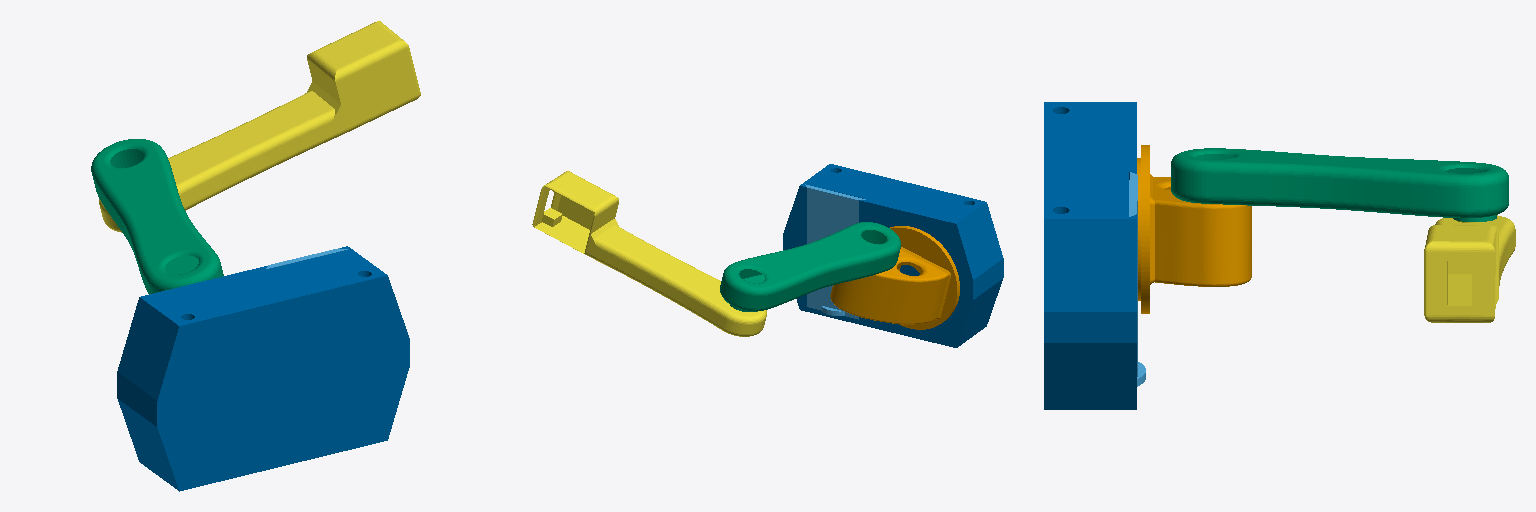
The robot description file, URDF, robot "ASSEMBLY":
<?xml version='1.0' encoding='utf-8'?>
<robot name="ASSEMBLY">
    <link name="ALKUT_armbase">
        <inertial>
            <origin xyz="0.004392225231481817 -0.01422742283088251 -0.0006438110774825035" rpy="0.0 2.223237049489075e-113 0.0" />
            <mass value="0.461910013936637" />
            <inertia ixx="0.0003075728479044783" iyy="0.00040563115301110036" izz="0.0003722463637850504" ixy="5.298811027529271e-05" iyz="-1.0325045876233632e-05" ixz="1.699306977943557e-05" />
        </inertial>
        <visual name="ALKUT_armbase_visual">
            <origin xyz="-0.005250129340027705 0.03364363985685577 0.0009232167950474412" rpy="3.141592653589789 0.24471893676488368 -1.0829313158005796e-15" />
            <geometry>
                <mesh filename="meshes/ALKUT_armbase.stl" scale="0.001 0.001 0.001" />
            </geometry>
        </visual>
        <collision name="ALKUT_armbase_collision">
            <origin xyz="-0.005250129340027705 0.03364363985685577 0.0009232167950474412" rpy="3.141592653589789 0.24471893676488368 -1.0829313158005796e-15" />
            <geometry>
                <mesh filename="meshes/ALKUT_armbase.stl" scale="0.001 0.001 0.001" />
            </geometry>
        </collision>
    </link>
    <link name="Systems_gate">
        <inertial>
            <origin xyz="0.018174334216628757 -0.00020545949361027382 0.017366469304385176" rpy="0.0 7.214816717400227e-81 0.0" />
            <mass value="0.16904533352244253" />
            <inertia ixx="9.104282885270591e-05" iyy="0.0001815201615161608" izz="9.103639830333973e-05" ixy="4.776744028536781e-07" iyz="-4.3369936483269146e-08" ixz="5.529309552445434e-05" />
        </inertial>
        <visual name="Systems_gate_visual">
            <origin xyz="0.05618812644339486 0.005327942733438338 -0.11240186221737887" rpy="-3.1328663395968963 -0.7853600871865067 -0.012341028231671783" />
            <geometry>
                <mesh filename="meshes/Systems_gate.stl" scale="0.001 0.001 0.001" />
            </geometry>
        </visual>
        <collision name="Systems_gate_collision">
            <origin xyz="0.05618812644339486 0.005327942733438338 -0.11240186221737887" rpy="-3.1328663395968963 -0.7853600871865067 -0.012341028231671783" />
            <geometry>
                <mesh filename="meshes/Systems_gate.stl" scale="0.001 0.001 0.001" />
            </geometry>
        </collision>
    </link>
    <link name="ALKUT_ARM2">
        <inertial>
            <origin xyz="0.014562267780249698 -0.015655297652689183 0.0628963853499188" rpy="0.0 -0.0 -3.3036320459721193e-60" />
            <mass value="0.21522109096762693" />
            <inertia ixx="0.0005305458698339864" iyy="0.0005859022489630474" izz="9.683268470041251e-05" ixy="1.6721952600130645e-05" iyz="3.999745533698248e-05" ixz="-0.00013411891612775256" />
        </inertial>
        <visual name="ALKUT_ARM2_visual">
            <origin xyz="-0.0934222420495484 0.039848103825119545 -0.11498199981537081" rpy="3.141592653589789 0.3336352796732803 -0.24471893676488476" />
            <geometry>
                <mesh filename="meshes/ALKUT_ARM2.stl" scale="0.001 0.001 0.001" />
            </geometry>
        </visual>
        <collision name="ALKUT_ARM2_collision">
            <origin xyz="-0.0934222420495484 0.039848103825119545 -0.11498199981537081" rpy="3.141592653589789 0.3336352796732803 -0.24471893676488476" />
            <geometry>
                <mesh filename="meshes/ALKUT_ARM2.stl" scale="0.001 0.001 0.001" />
            </geometry>
        </collision>
    </link>
    <link name="ALKUT_ARM3">
        <inertial>
            <origin xyz="0.08843325739568651 -0.005161036761772451 0.012153182161213695" rpy="0.0 -6.162975822039155e-33 -8.552847072295026e-50" />
            <mass value="0.2664066630042031" />
            <inertia ixx="0.00016764484930982532" iyy="0.001114654799692388" izz="0.0010236958907884892" ixy="6.373720246899413e-05" iyz="2.094313129491143e-05" ixz="-0.00029858947273674904" />
        </inertial>
        <visual name="ALKUT_ARM3_visual">
            <origin xyz="-0.0033130544164205844 -0.019085320238376724 -0.015856569820963225" rpy="-1.5608866275691313 -0.24452222994408765 -0.04091197313850169" />
            <geometry>
                <mesh filename="meshes/ALKUT_ARM3.stl" scale="0.001 0.001 0.001" />
            </geometry>
        </visual>
        <collision name="ALKUT_ARM3_collision">
            <origin xyz="-0.0033130544164205844 -0.019085320238376724 -0.015856569820963225" rpy="-1.5608866275691313 -0.24452222994408765 -0.04091197313850169" />
            <geometry>
                <mesh filename="meshes/ALKUT_ARM3.stl" scale="0.001 0.001 0.001" />
            </geometry>
        </collision>
    </link>
    <link name="Base">
        <inertial>
            <origin xyz="-0.004225328361919232 0.04412948168047964 -0.0006154361378889025" rpy="0.0 0.0 0.0" />
            <mass value="1.3681824208452278" />
            <inertia ixx="0.0021998645901892266" iyy="0.005542889048736739" izz="0.0041118886800065105" ixy="6.150804612622957e-05" iyz="9.016794220462873e-06" ixz="1.474575158063492e-05" />
        </inertial>
        <visual name="Base_visual">
            <origin xyz="0.0 0.0 0.0" rpy="0.0 0.0 0.0" />
            <geometry>
                <mesh filename="meshes/Base.stl" scale="0.001 0.001 0.001" />
            </geometry>
        </visual>
        <collision name="Base_collision">
            <origin xyz="0.0 0.0 0.0" rpy="0.0 0.0 0.0" />
            <geometry>
                <mesh filename="meshes/Base.stl" scale="0.001 0.001 0.001" />
            </geometry>
        </collision>
    </link>
    <joint name="Base_Rigid-4" type="fixed">
        <origin xyz="0.06268081324497196 0.06968460038521379 0.001743042332830349" rpy="-5.828968252863496e-15 0.7853981633974452 3.141592653589789" />
        <parent link="Base" />
        <child link="Systems_gate" />
    </joint>
    <joint name="Base_Revolute-5" type="continuous">
        <origin xyz="-0.03395068675502803 0.07179510038521382 -0.0003569576671696417" rpy="-3.141592653589789 -3.6096140129570125e-32 7.589415207398533e-18" />
        <parent link="Base" />
        <child link="ALKUT_armbase" />
        <axis xyz="-5.473822126268817e-48 -1.0 0.0" />
    </joint>
    <joint name="ALKUT_armbase_Revolute-6" type="continuous">
        <origin xyz="0.017425099999999995 -0.03569999999999997 -0.023831880000000007" rpy="1.5707963267948966 1.9567448234974316e-31 -4.1878511460097706e-30" />
        <parent link="ALKUT_armbase" />
        <child link="ALKUT_ARM2" />
        <axis xyz="-0.242284 -0.970205 -1.780006121609783e-30" />
    </joint>
    <joint name="ALKUT_ARM2_Revolute-7" type="continuous">
        <origin xyz="0.03575284 -0.012213729999999999 0.13247643" rpy="1.5707963267948966 4.1878511460097706e-30 -3.082536381517628e-17" />
        <parent link="ALKUT_ARM2" />
        <child link="ALKUT_ARM3" />
        <axis xyz="0.24228399999999994 -7.027538654048e-18 -0.9702049999999999" />
    </joint>
</robot>

--- Facts derived from the render (not from the file) ---
3 views of the same robot in one strip: view 1: azimuth 30°, elevation 25°; view 2: azimuth 150°, elevation 25°; view 3: azimuth 270°, elevation 25° (orthographic).
Model ASSEMBLY with 5 links and 4 joints (3 continuous, 1 fixed), rooted at Base, posed all joints at 0.
Visible links, largest first — view 1: Base, ALKUT_ARM3, ALKUT_ARM2; view 2: Base, ALKUT_ARM3, ALKUT_ARM2, ALKUT_armbase, Systems_gate; view 3: Base, ALKUT_ARM2, ALKUT_armbase, ALKUT_ARM3, Systems_gate.
Link boxes in pixels (x1,y1,x2,y2): Base: (117, 246, 409, 491); ALKUT_ARM3: (99, 21, 420, 232); ALKUT_ARM2: (91, 139, 223, 293); Base: (783, 164, 1003, 347); ALKUT_ARM3: (532, 171, 766, 336); ALKUT_ARM2: (720, 222, 900, 311); ALKUT_armbase: (830, 226, 959, 329); Systems_gate: (805, 184, 865, 319); Base: (1044, 102, 1136, 409); ALKUT_ARM2: (1171, 148, 1508, 221); ALKUT_armbase: (1137, 145, 1251, 313); ALKUT_ARM3: (1424, 215, 1515, 322); Systems_gate: (1129, 172, 1145, 386).
Size in the robot's own frame: 0.2864 by 0.2347 by 0.1487 metres.
Meshes: 5 distinct files referenced, 5 mesh visuals loaded (5 binary STL).